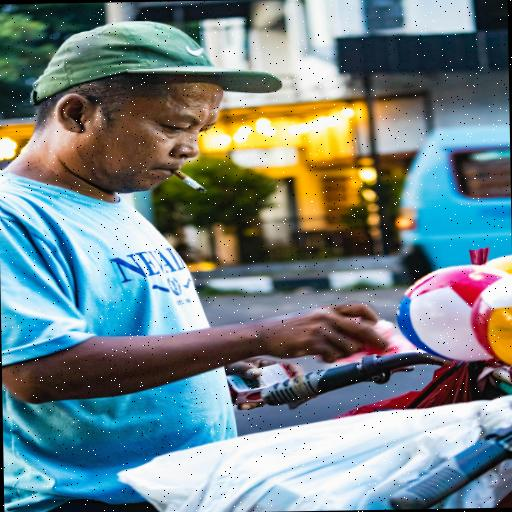dataset-deteksi-merokok: (129, 72, 248, 208)
